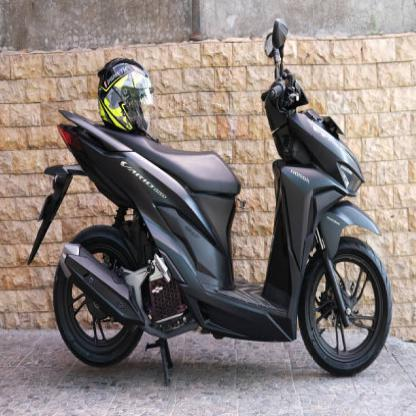Motorcycle: (26, 22, 397, 385)
